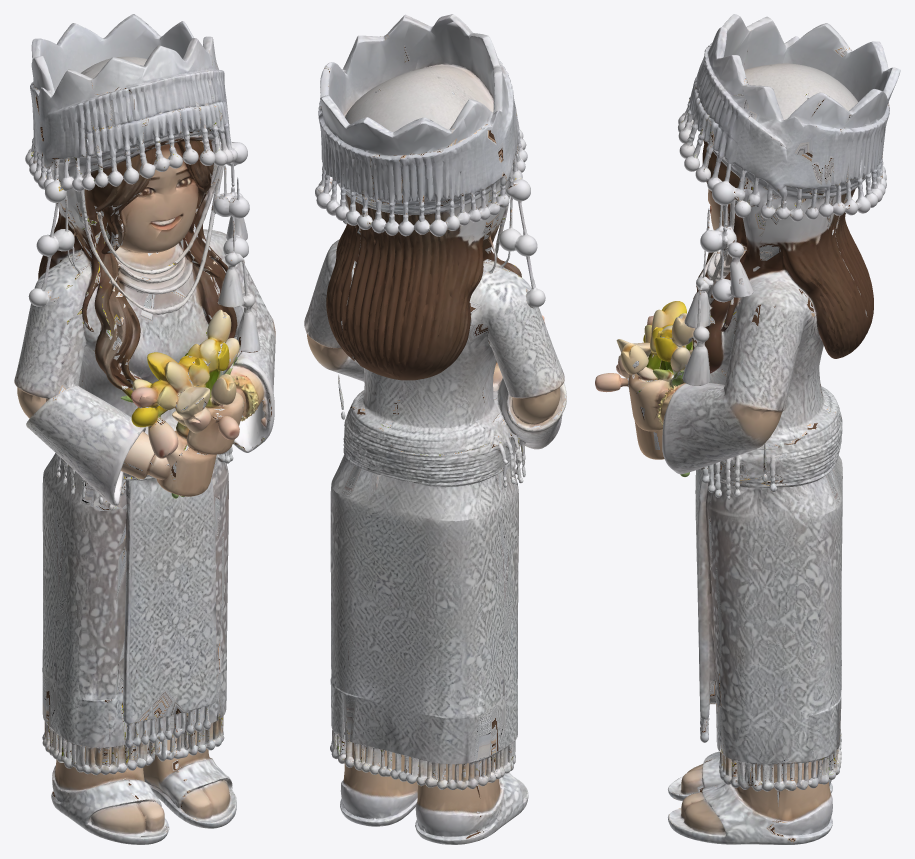
File: nina_web.glb
3 views of the same model, side by side, from view 1: azimuth 30°, elevation 25°; view 2: azimuth 150°, elevation 25°; view 3: azimuth 270°, elevation 25° (orthographic).
Parts seen in each view (by area): view 1: model; view 2: model; view 3: model.
Boxes of the visible parts, x1,y1,x2,y2 form: model: (14, 14, 275, 844); model: (304, 14, 566, 844); model: (595, 14, 900, 844).
Bounding box in the file's own units: 0.6424 × 1.9 × 0.6709.
Materials: 1 (1 with a texture image).
